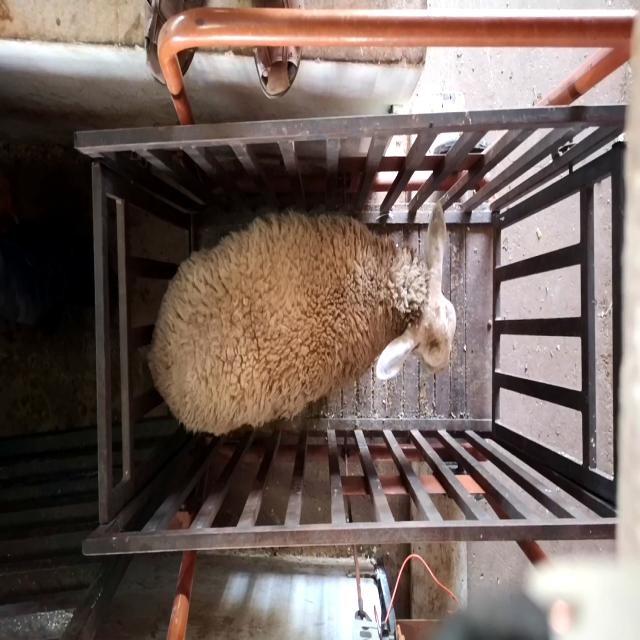sheep: (148, 199, 457, 439)
